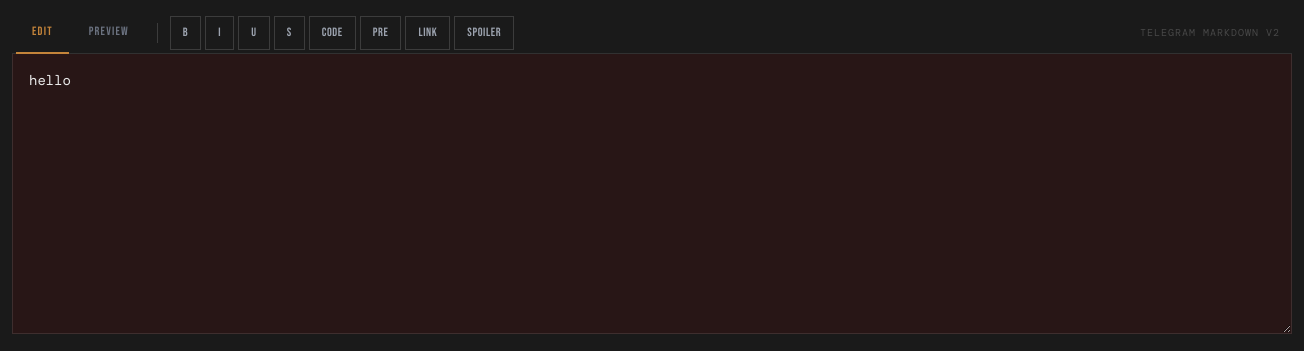
Test: PublicationEditor — EDIT / PREVIEW toggle › switches to PREVIEW mode when the PREVIEW button is clicked
Click the button "PREVIEW".
click(109, 33)  # box [73, 12, 145, 54]
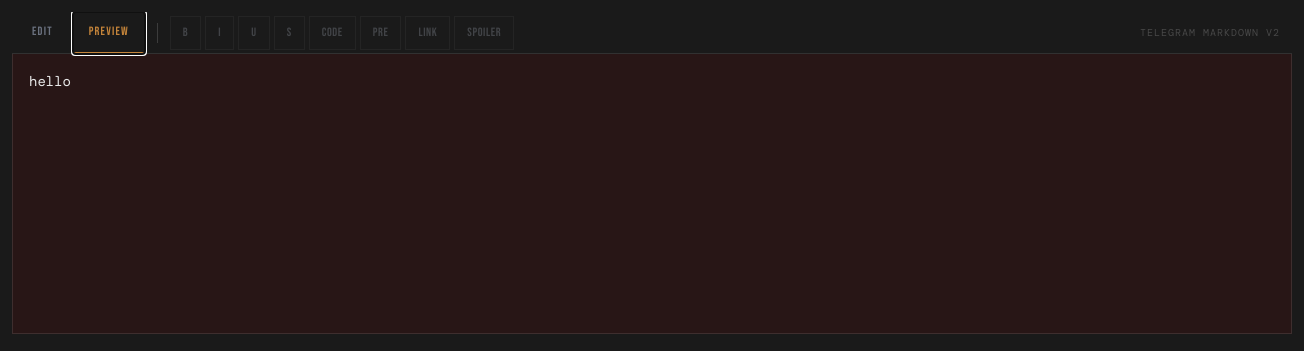
Check: the text "hello" is shown
